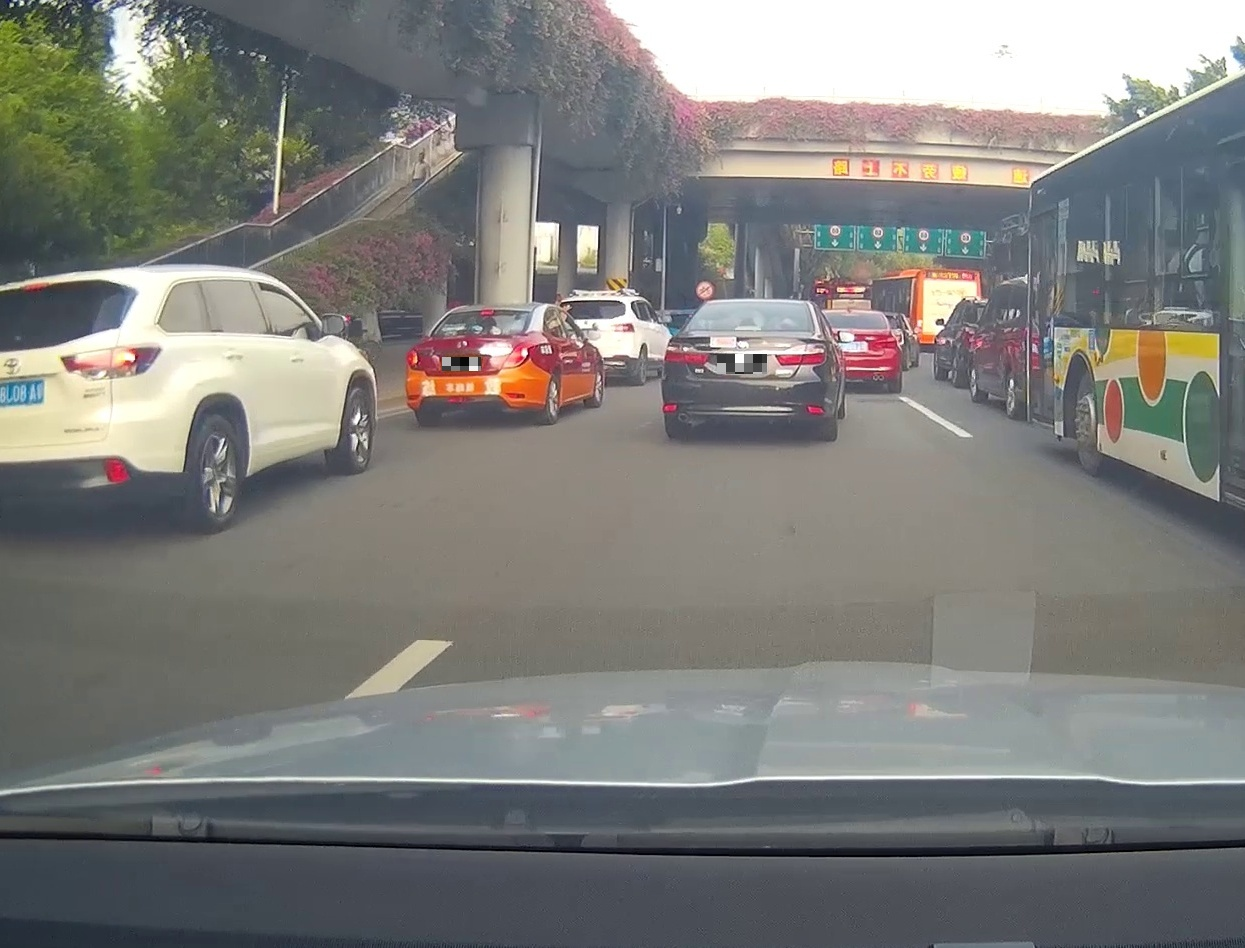L_light: (665, 341, 708, 364), (406, 347, 423, 371)
R_light: (775, 343, 827, 366), (502, 341, 536, 368)
T_light: (734, 326, 761, 331), (480, 309, 495, 315)
day-brake: (405, 304, 540, 425)
day-no: (661, 298, 837, 441)
plate_1: (442, 357, 481, 371)
plate_2: (717, 354, 767, 374)
